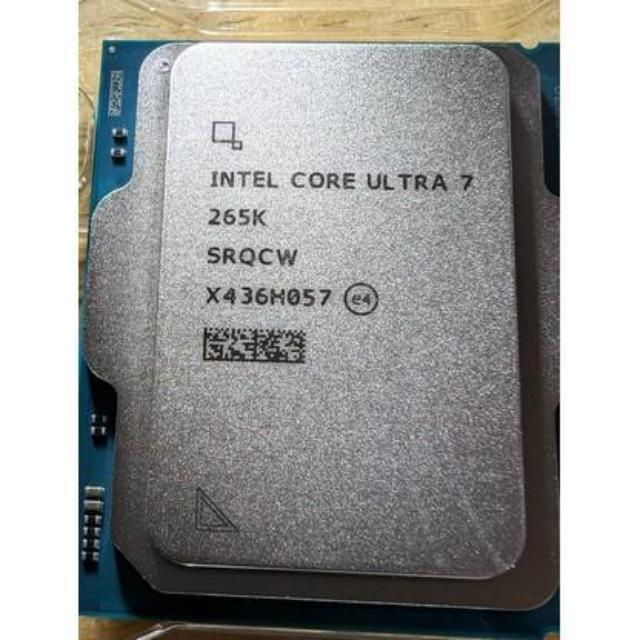CPU: (109, 43, 544, 628)
